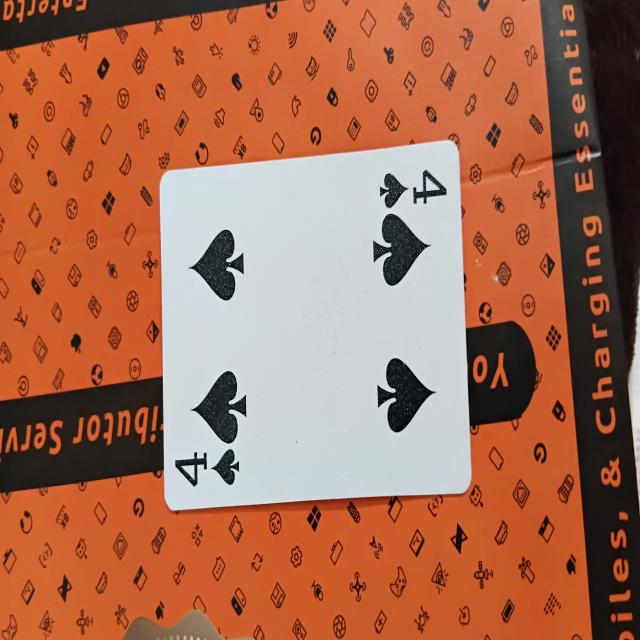4S: (162, 171, 470, 499)
